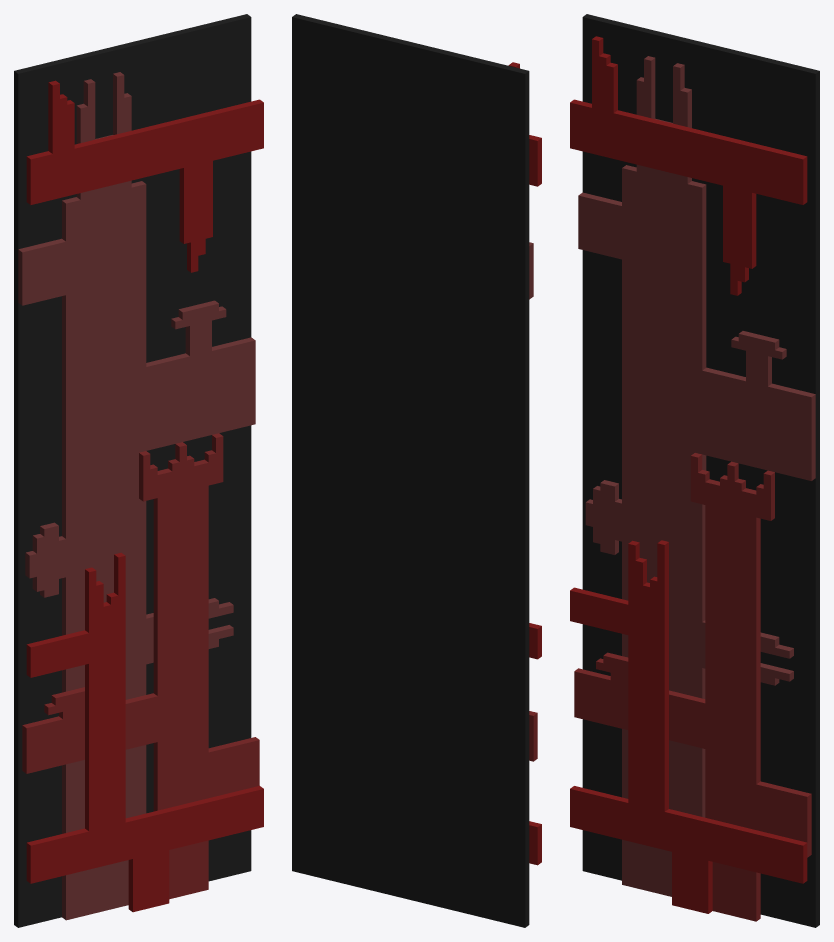
The model's file is scene_factory.glb.
The picture shows the model from 3 angles, left to right: view 1: azimuth 30°, elevation 25°; view 2: azimuth 150°, elevation 25°; view 3: azimuth 330°, elevation 25°; orthographic projection.
Visible parts, largest first — view 1: scene_factory_14, scene_factory_13, scene_factory_11, scene_factory_12; view 2: scene_factory_14, scene_factory_11; view 3: scene_factory_14, scene_factory_13, scene_factory_11, scene_factory_12.
Part boxes in pixels (x1,y1,x2,y2): scene_factory_14: (14, 14, 251, 927); scene_factory_13: (18, 72, 255, 920); scene_factory_11: (26, 80, 263, 912); scene_factory_12: (22, 433, 259, 899); scene_factory_14: (292, 14, 529, 927); scene_factory_11: (508, 62, 541, 865); scene_factory_14: (582, 14, 819, 927); scene_factory_13: (578, 56, 815, 896); scene_factory_11: (570, 36, 807, 913); scene_factory_12: (574, 453, 811, 921).
Bounding box in the file's own units: 3.2 × 11.2 × 0.4.
4 materials, 4 textured.
